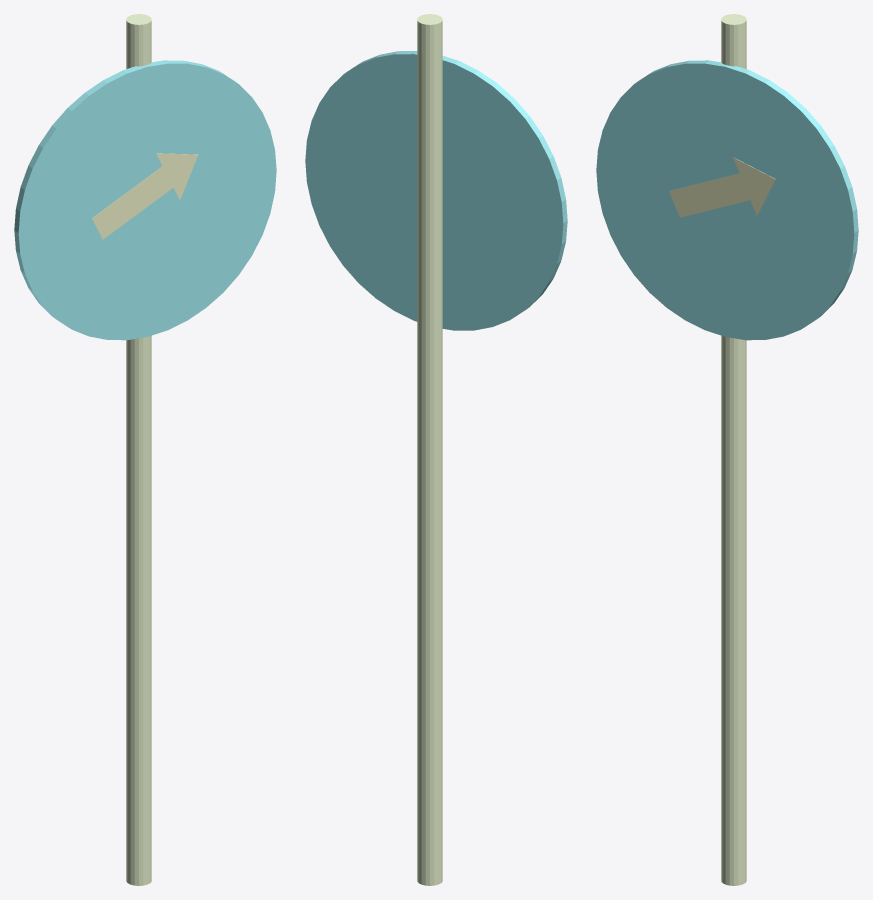
The model's file is sign_mandatory_direction_right.glb.
The picture shows the model from 3 angles, left to right: view 1: azimuth 30°, elevation 25°; view 2: azimuth 150°, elevation 25°; view 3: azimuth 330°, elevation 25°; orthographic projection.
Visible parts, largest first — view 1: plate_base_00, pole, layer_1_00, layer_1_01; view 2: plate_base_00, pole; view 3: plate_base_00, pole, layer_1_00, layer_1_01.
Boxes of the visible parts, x1,y1,x2,y2 form: plate_base_00: [14, 60, 276, 340]; pole: [126, 14, 151, 885]; layer_1_00: [92, 166, 173, 239]; layer_1_01: [156, 153, 198, 200]; plate_base_00: [305, 51, 567, 330]; pole: [417, 14, 442, 885]; plate_base_00: [596, 60, 858, 340]; pole: [721, 14, 746, 885]; layer_1_00: [669, 173, 750, 217]; layer_1_01: [733, 157, 775, 215].
Bounding box in the file's own units: 0.69 × 2.2 × 0.071.
